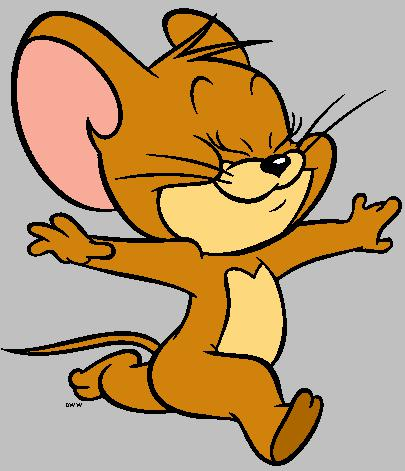jerry: (2, 9, 400, 465)
